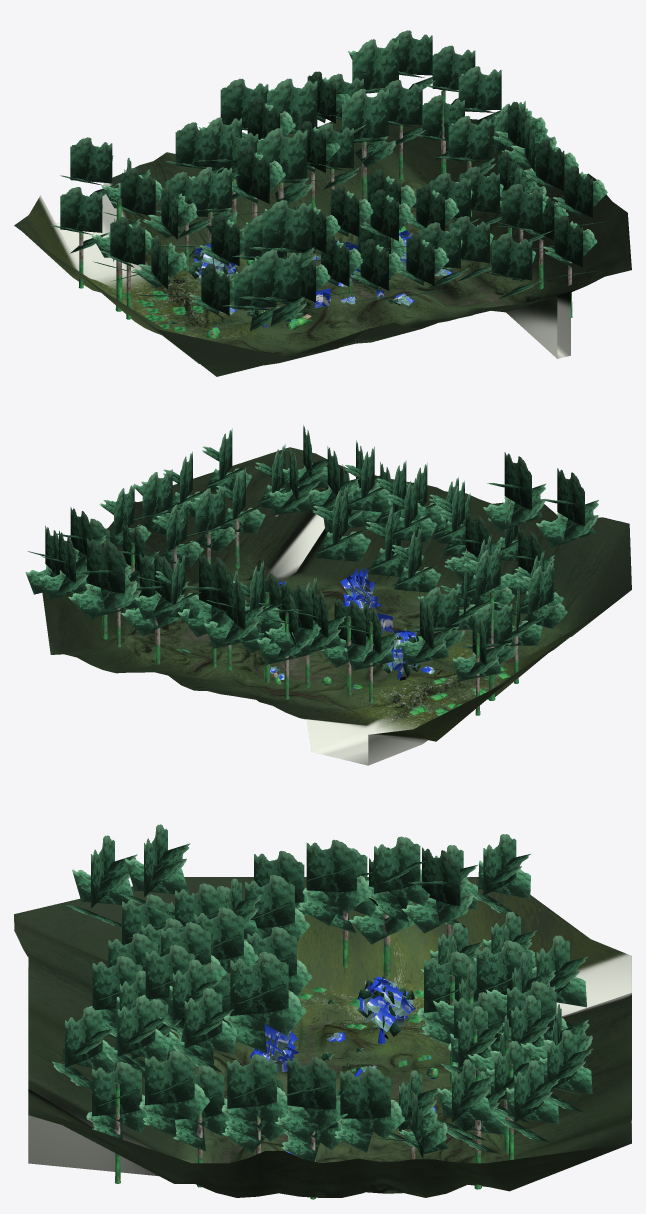
The model's file is Prologue_BG_B.fbx.
The picture shows the model from 3 angles, top to bottom: view 1: azimuth 30°, elevation 25°; view 2: azimuth 150°, elevation 25°; view 3: azimuth 270°, elevation 25°; orthographic projection. The views are drawn at different scales.
Visible parts, largest first — view 1: Sugi_leaf, Filed_mesh, Plants; view 2: Sugi_leaf, Filed_mesh, Plants; view 3: Sugi_leaf, Filed_mesh, Plants.
Boxes of the visible parts, left/top/right/bottom form: Sugi_leaf: left=51, top=30, right=607, bottom=331; Filed_mesh: left=14, top=119, right=631, bottom=376; Plants: left=115, top=226, right=524, bottom=333; Sugi_leaf: left=25, top=425, right=598, bottom=681; Filed_mesh: left=42, top=447, right=631, bottom=765; Plants: left=175, top=568, right=510, bottom=715; Sugi_leaf: left=52, top=824, right=593, bottom=1161; Filed_mesh: left=14, top=877, right=631, bottom=1197; Plants: left=249, top=976, right=451, bottom=1157.
Size of the model in its own units: 10626 by 4115 by 9820.
